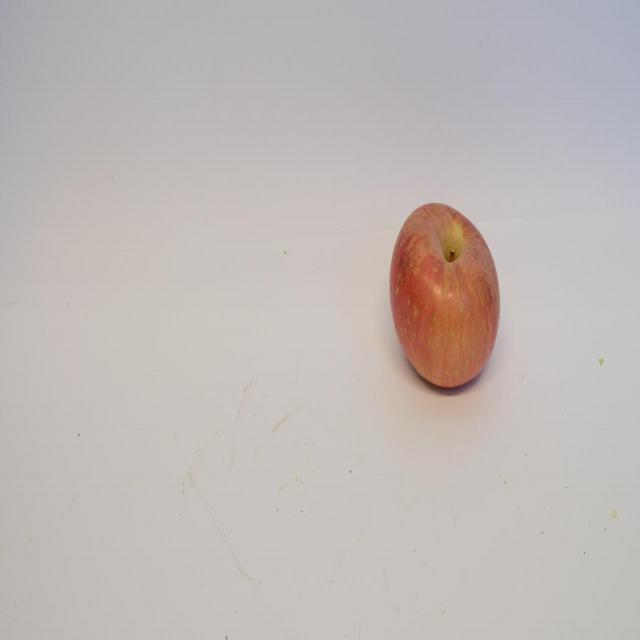apple: (392, 189, 498, 392)
